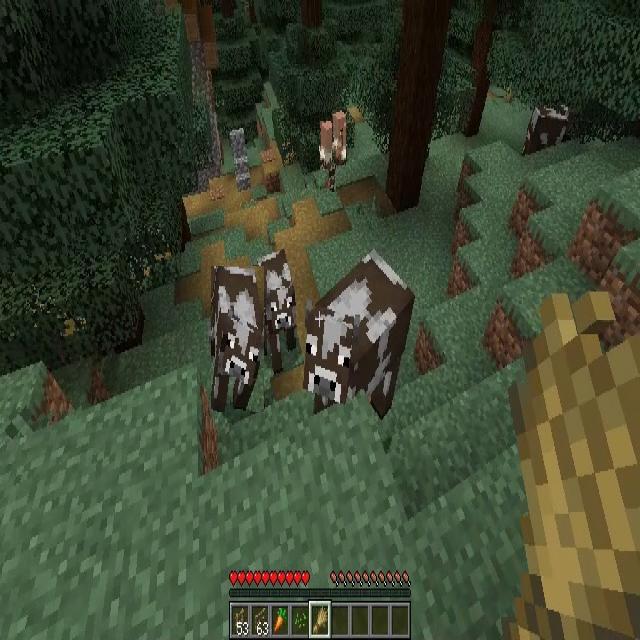cow: (304, 251, 416, 417), (211, 266, 264, 412), (259, 250, 297, 373), (524, 101, 572, 156)
people: (320, 121, 336, 192), (332, 110, 346, 165)
